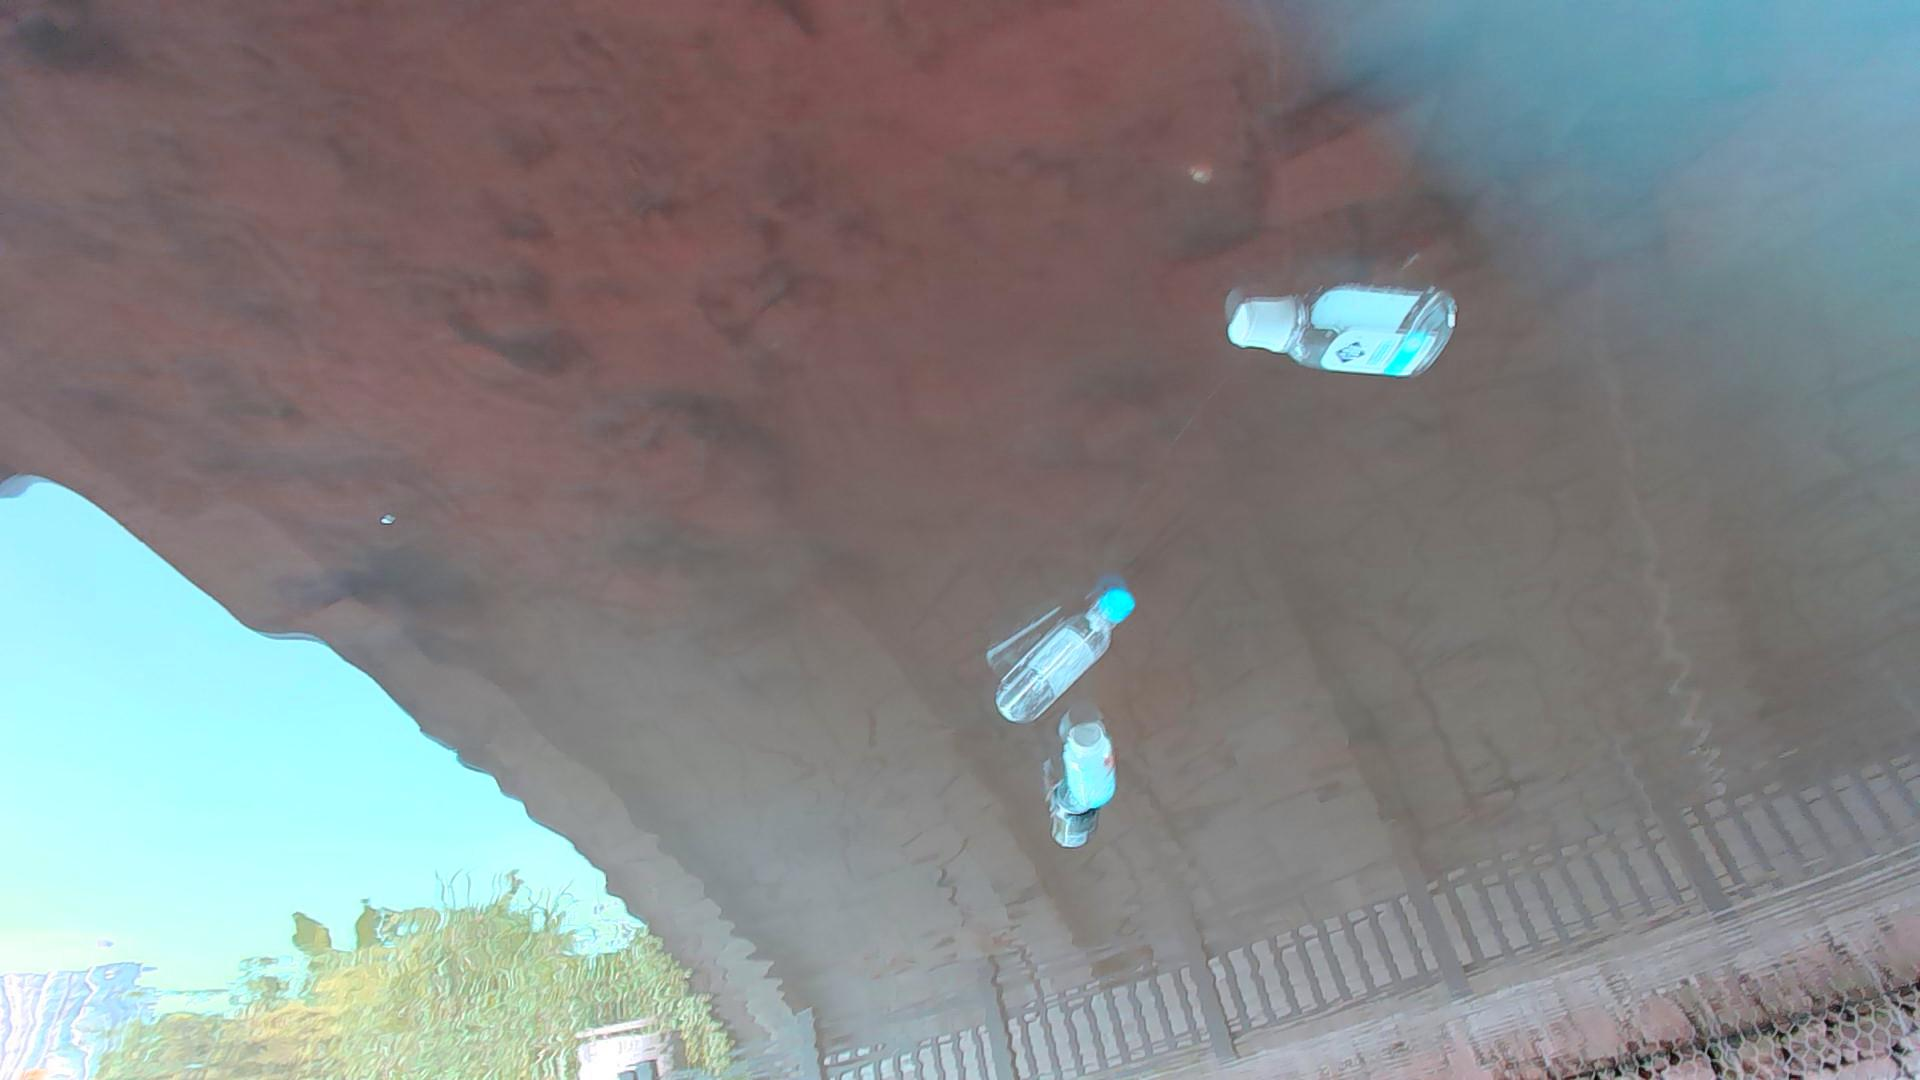Metal: (1056, 796, 1108, 857)
Plastic: (1222, 278, 1461, 388), (989, 587, 1145, 728), (1060, 723, 1124, 815)
